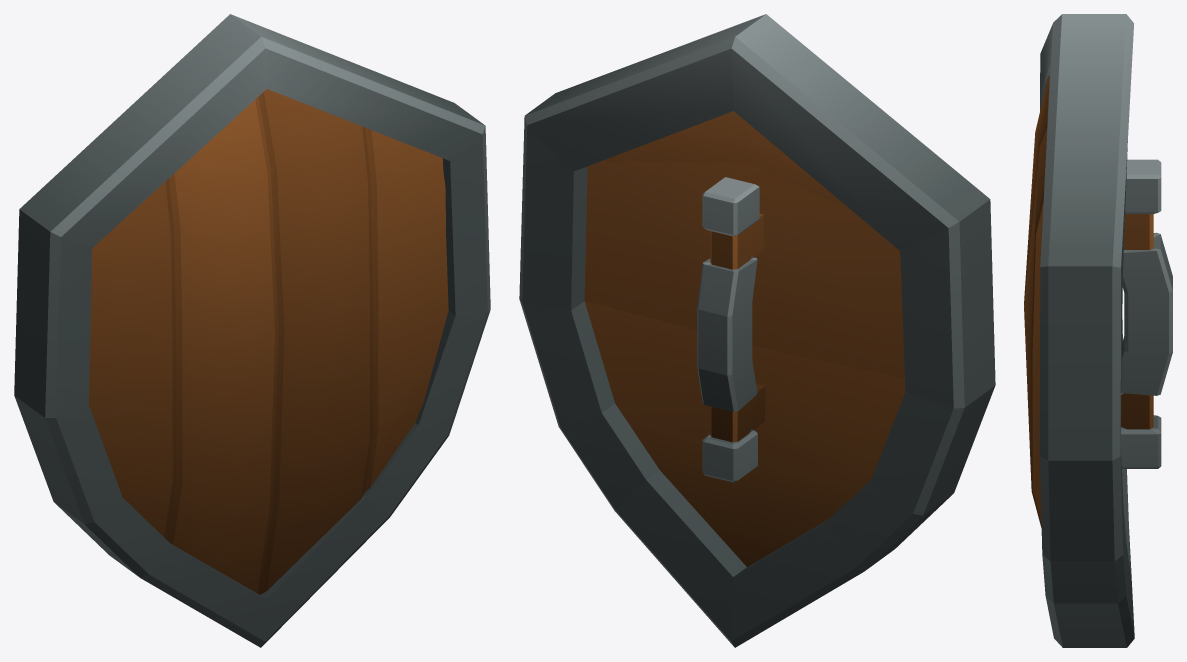
Rendered from Shield-1.fbx.
3 renders of one model, left to right at view 1: azimuth 30°, elevation 25°; view 2: azimuth 150°, elevation 25°; view 3: azimuth 270°, elevation 25°, orthographic. The views are drawn at different scales.
Visible parts, largest first — view 1: Shield-1; view 2: Shield-1; view 3: Shield-1.
Part boxes in pixels (box(x1,y1,x2,y2)): Shield-1: box(14, 14, 490, 647); Shield-1: box(519, 14, 995, 647); Shield-1: box(1024, 14, 1172, 647).
Size of the model in its own units: 83.41 by 109 by 23.29.
